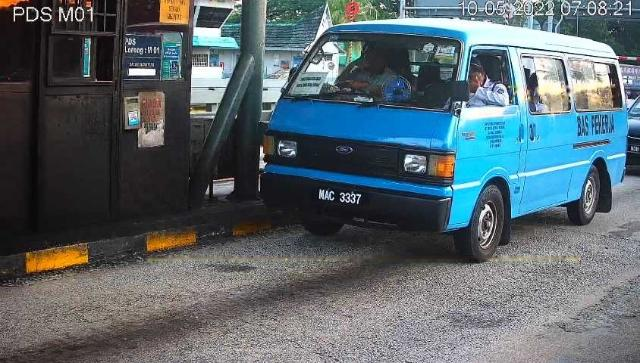License_Plate: (314, 187, 368, 212)
van: (261, 20, 630, 263)
